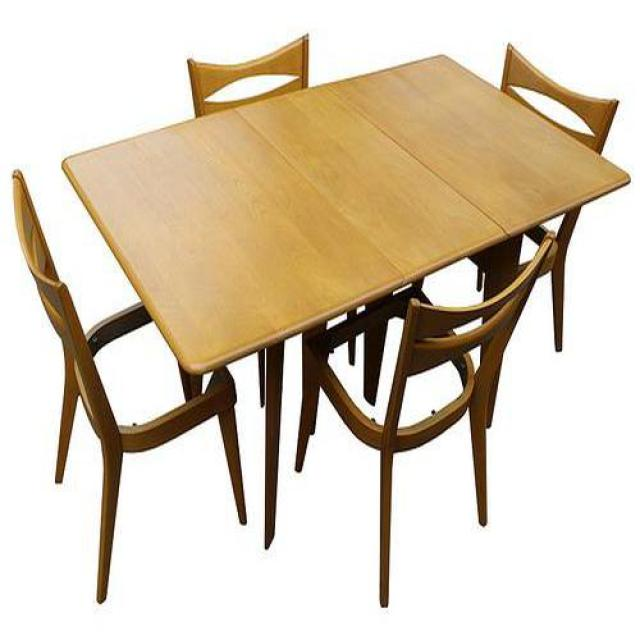table: (61, 55, 634, 550)
